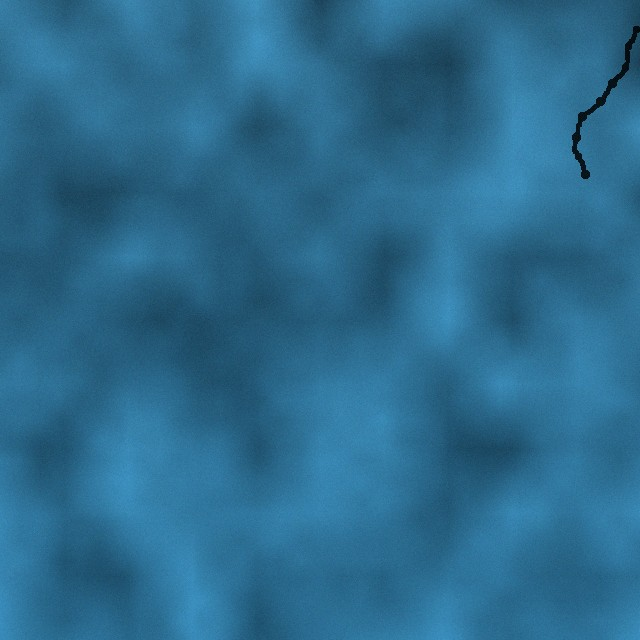crack: (570, 24, 639, 178)
